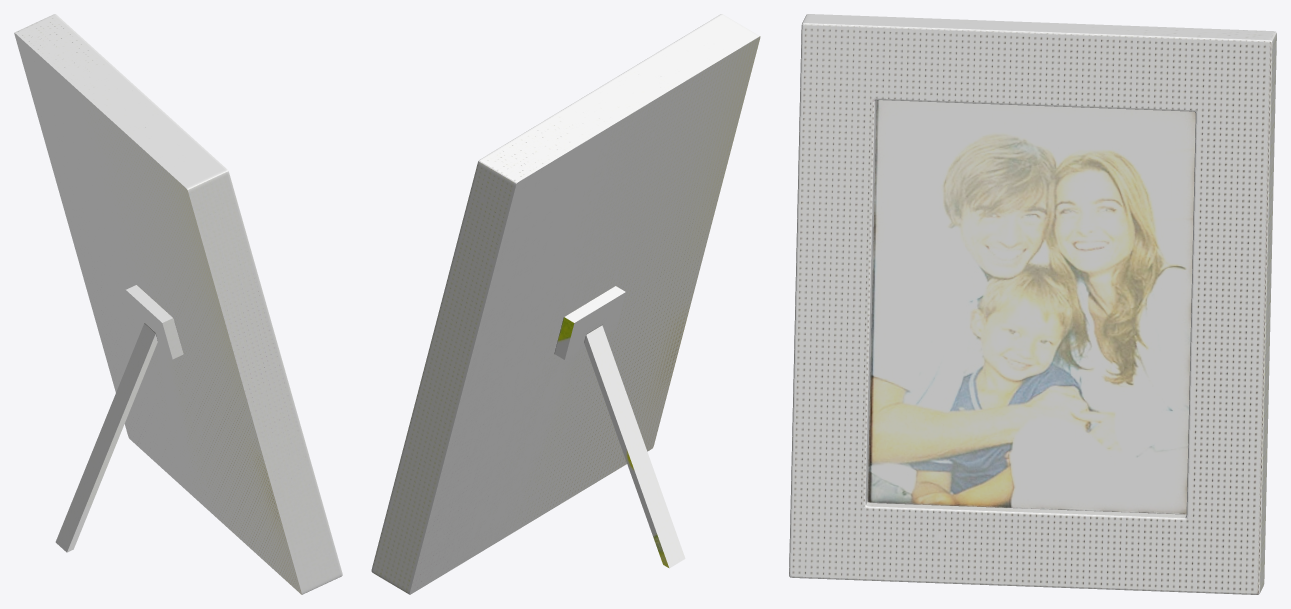
File: family-frame.gltf
3 views of the same model, side by side, from view 1: azimuth 30°, elevation 25°; view 2: azimuth 150°, elevation 25°; view 3: azimuth 270°, elevation 25° (orthographic). The views are drawn at different scales.
Parts seen in each view (by area): view 1: Object_2; view 2: Object_2; view 3: Object_2.
Part boxes in pixels (<box>): Object_2: <box>14,14,342,594</box>; Object_2: <box>371,14,760,594</box>; Object_2: <box>789,14,1276,594</box>.
Bounding box in the file's own units: 14.85 × 30.69 × 26.83.
1 material, 1 textured.
